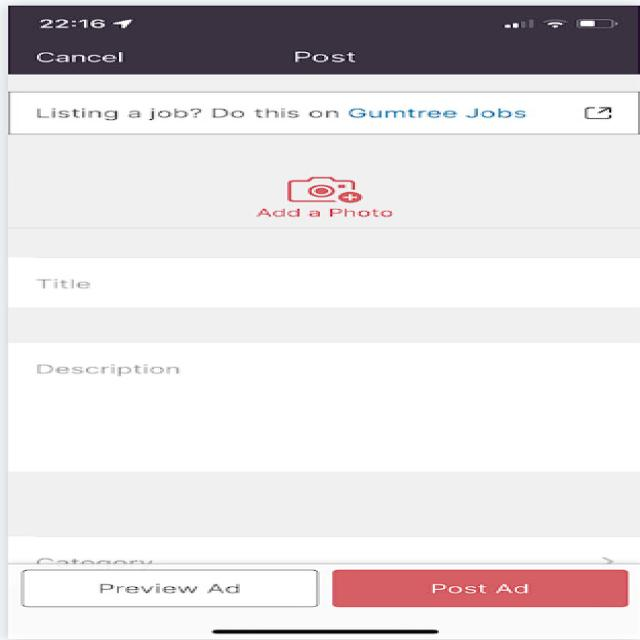button: (320, 555, 640, 611), (18, 555, 326, 612)
input: (0, 331, 640, 486), (0, 246, 640, 312), (0, 86, 640, 142)
view: (235, 166, 415, 228)
